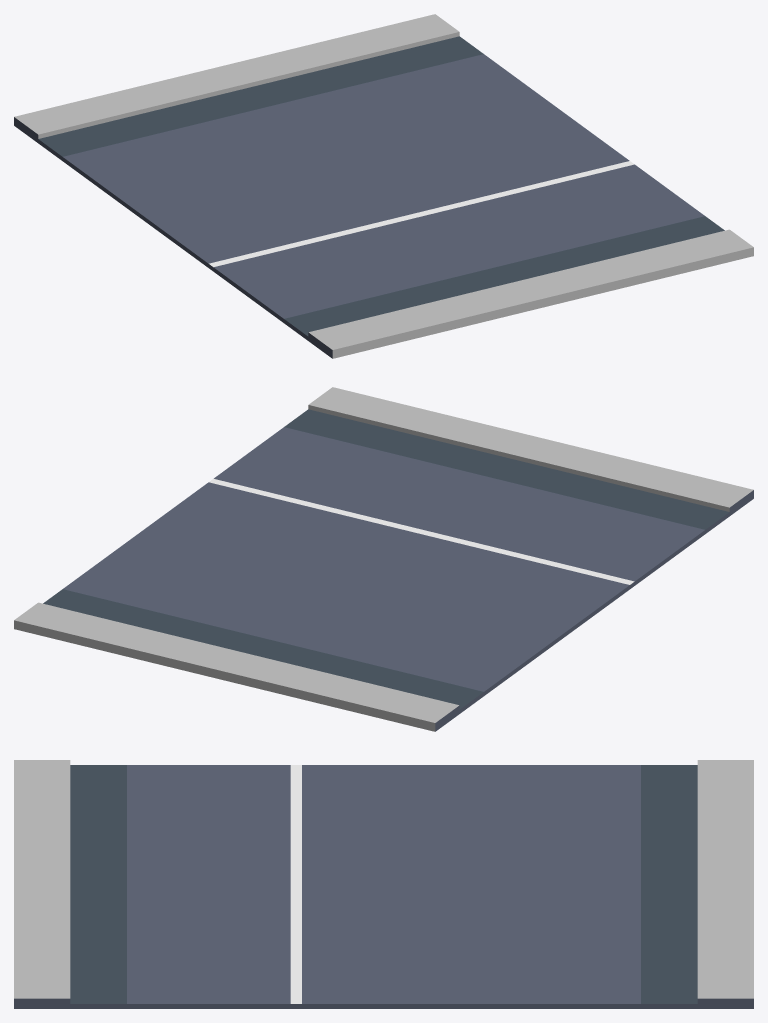
The model's file is SM_Roadside.fbx.
The picture shows the model from 3 angles, top to bottom: view 1: azimuth 30°, elevation 25°; view 2: azimuth 150°, elevation 25°; view 3: azimuth 270°, elevation 25°; orthographic projection. The views are drawn at different scales.
Visible parts, largest first — view 1: SM_Roadside; view 2: SM_Roadside; view 3: SM_Roadside.
Part boxes in pixels (x1,y1,x2,y2): SM_Roadside: (14,14,753,358); SM_Roadside: (14,387,753,731); SM_Roadside: (14,760,753,1008).
Size of the model in its own units: 1000 by 20 by 1310.
